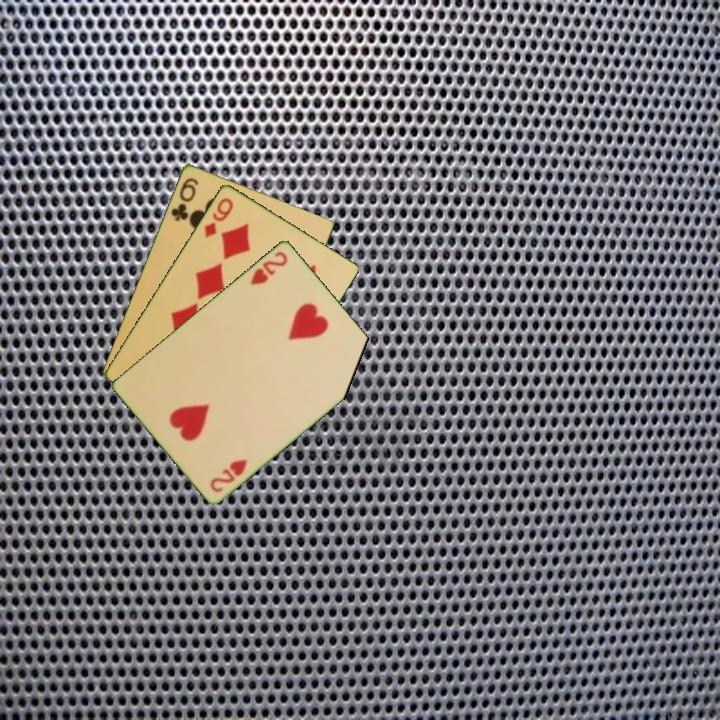2h: (247, 247, 290, 288), (206, 455, 250, 495)
6c: (167, 174, 201, 224)
9d: (200, 194, 236, 241)
